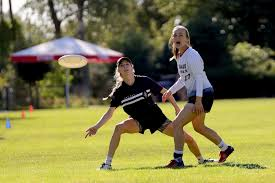disc: (58, 55, 89, 70)
